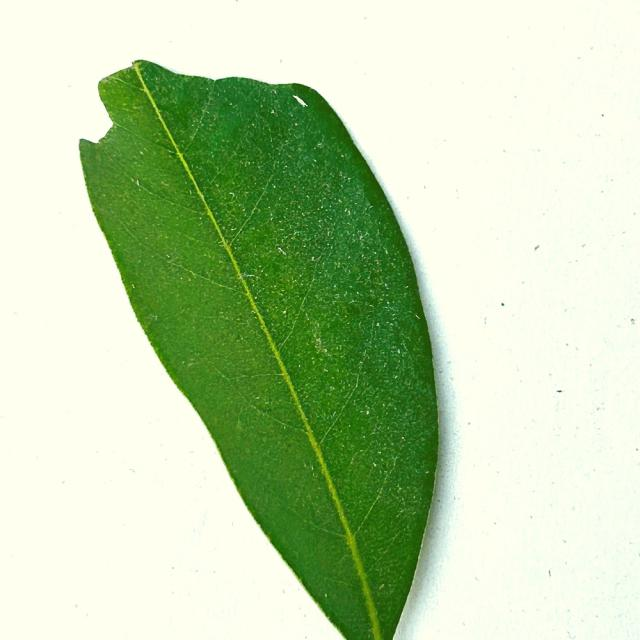Deficiency Leaf: (130, 40, 289, 83), (58, 76, 113, 143)
Lychee: (80, 61, 438, 639)
